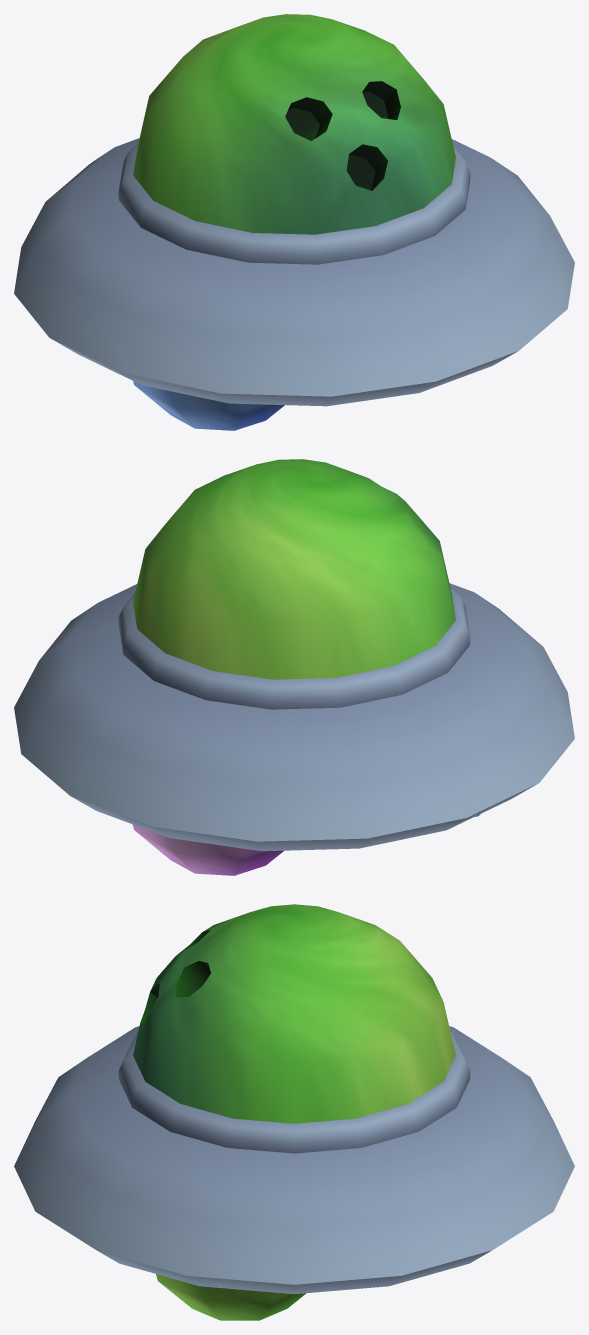
The model's file is Fbx_UFO.fbx.
3 renders of one model, top to bottom at view 1: azimuth 30°, elevation 25°; view 2: azimuth 150°, elevation 25°; view 3: azimuth 270°, elevation 25°, orthographic.
Parts seen in each view (by area): view 1: UFO, Orbs; view 2: UFO, Orbs; view 3: UFO, Orbs.
Part boxes in pixels (x1,y1,x2,y2): UFO: [14, 14, 574, 406]; Orbs: [133, 381, 284, 430]; UFO: [14, 459, 574, 851]; Orbs: [132, 814, 480, 875]; UFO: [14, 904, 574, 1294]; Orbs: [156, 1274, 305, 1320].
Size of the model in its own units: 11.54 by 7.62 by 11.54.
